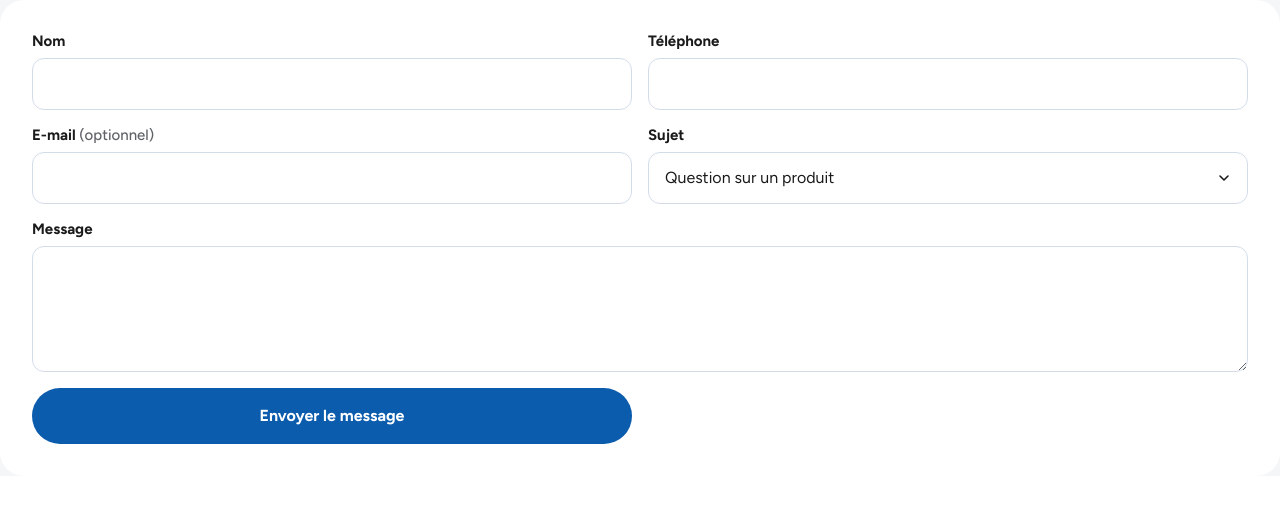
ContactForm › maps API field errors under the field
Type "0612345678" into the field labelled "Téléphone" at coordinates (948, 84), box [648,58,1248,110]
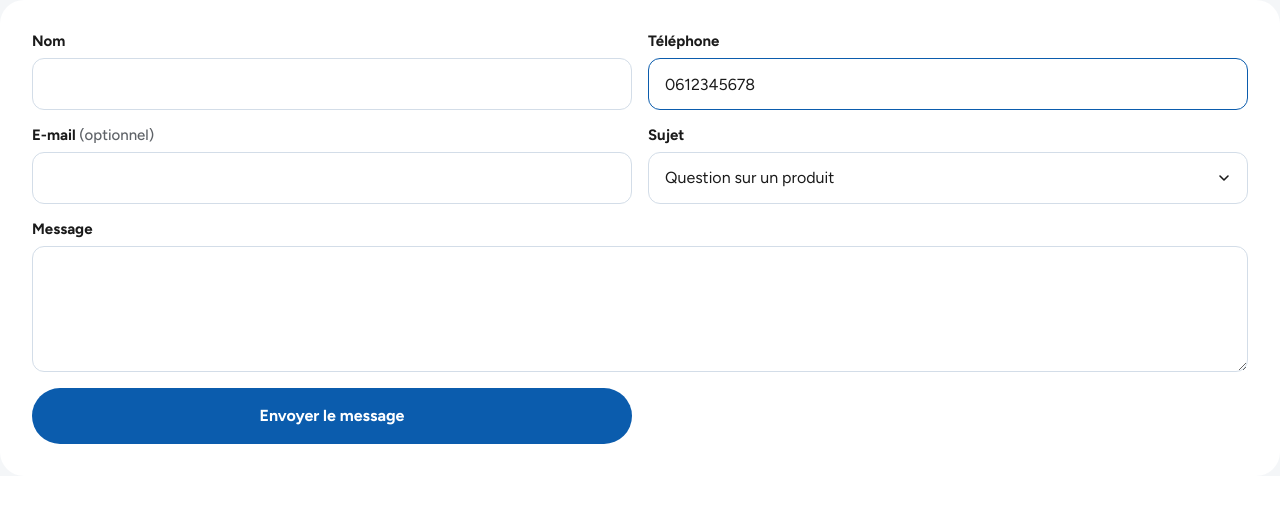
Click the button "Envoyer le message" at coordinates (332, 416), box [32,388,632,444]
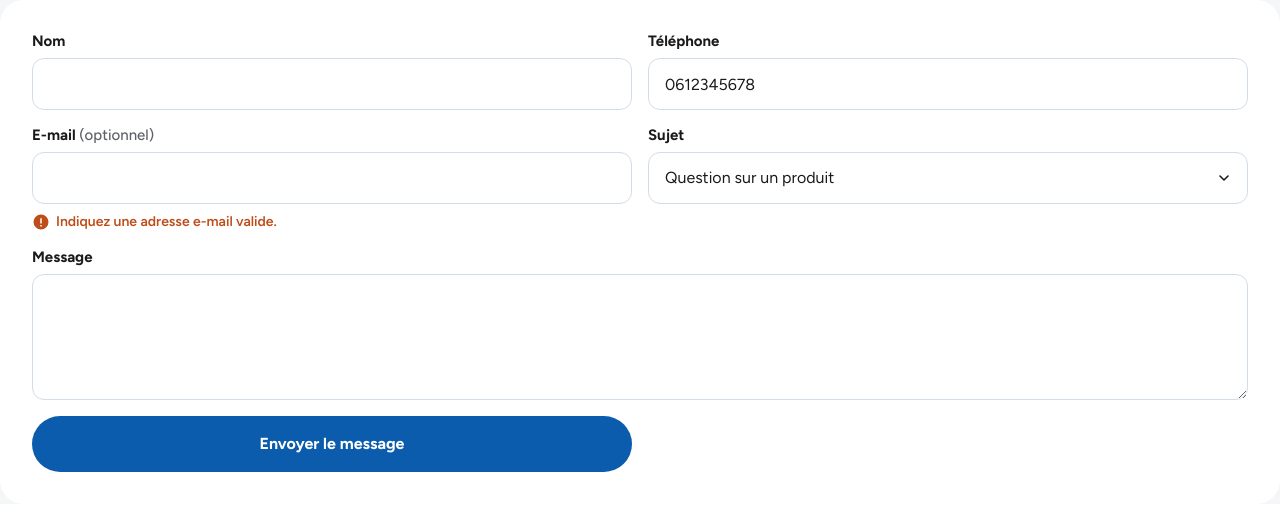
expect the text "Indiquez une adresse e-mail valide." is shown: met, box [32,213,277,231]
